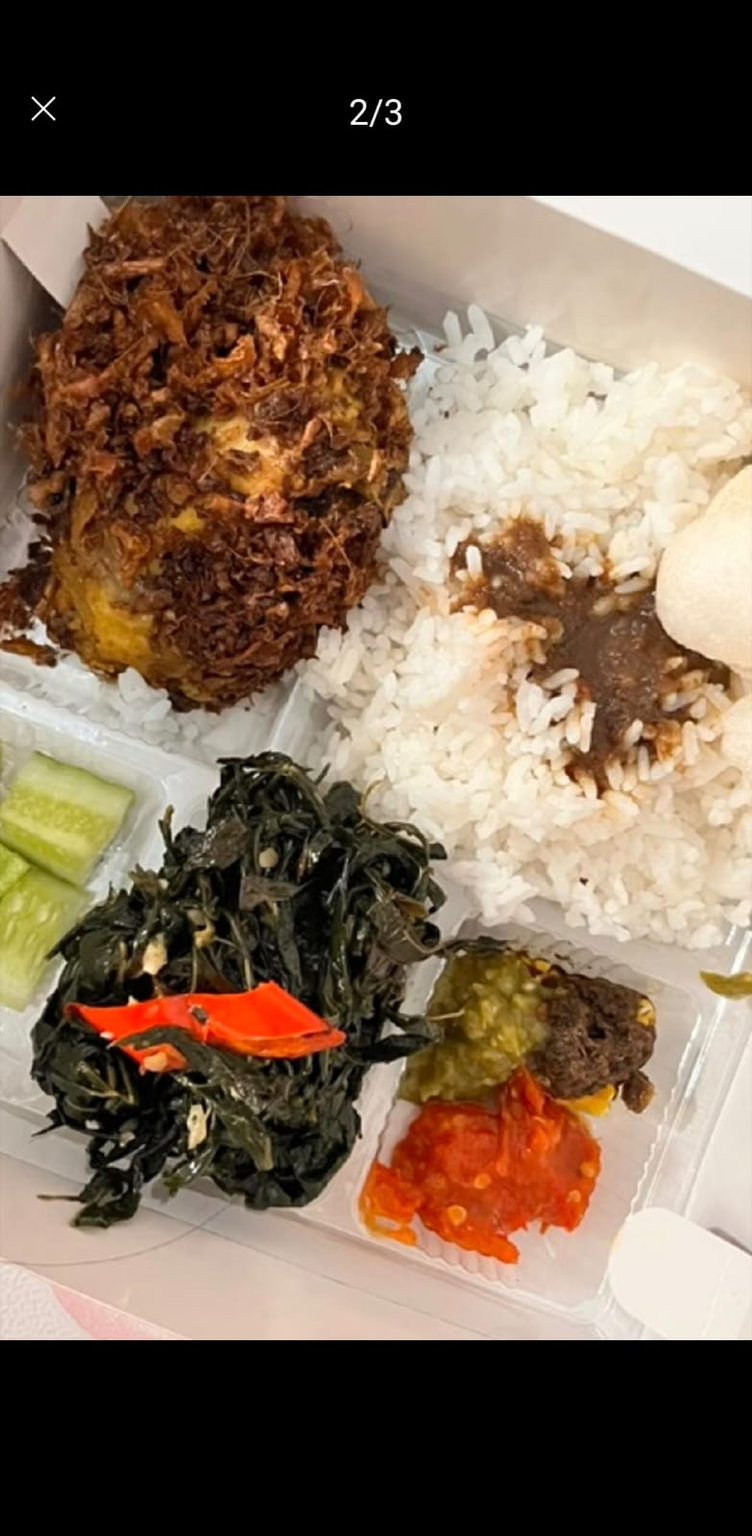buah_sayur_lainnya: (0, 728, 371, 1173)
daging: (75, 238, 350, 655)
makanan_berpati: (430, 378, 740, 900)
